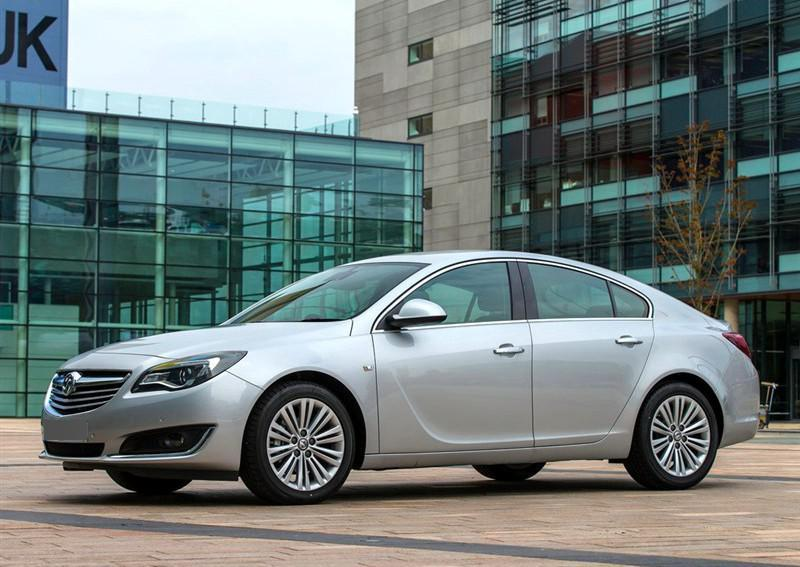Wagon: (39, 249, 761, 507)
